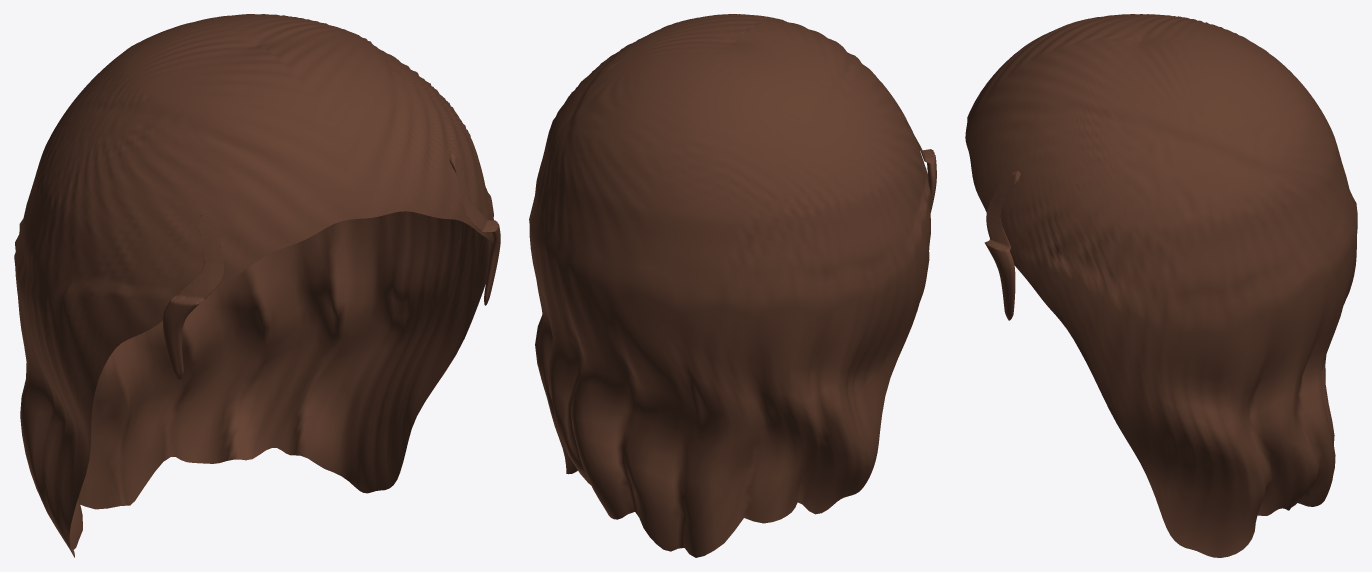
The model's file is space-buns-beanie.glb.
The picture shows the model from 3 angles, left to right: view 1: azimuth 30°, elevation 25°; view 2: azimuth 150°, elevation 25°; view 3: azimuth 270°, elevation 25°; orthographic projection. The views are drawn at different scales.
Parts seen in each view (by area): view 1: 226 hair / Hair / chestnut226.002; view 2: 226 hair / Hair / chestnut226.002; view 3: 226 hair / Hair / chestnut226.002.
Part boxes in pixels (left/top/right/bottom): 226 hair / Hair / chestnut226.002: left=14, top=14, right=500, bottom=557; 226 hair / Hair / chestnut226.002: left=529, top=14, right=936, bottom=557; 226 hair / Hair / chestnut226.002: left=965, top=14, right=1357, bottom=557.
Bounding box in the file's own units: 0.8048 × 0.965 × 0.7316.
